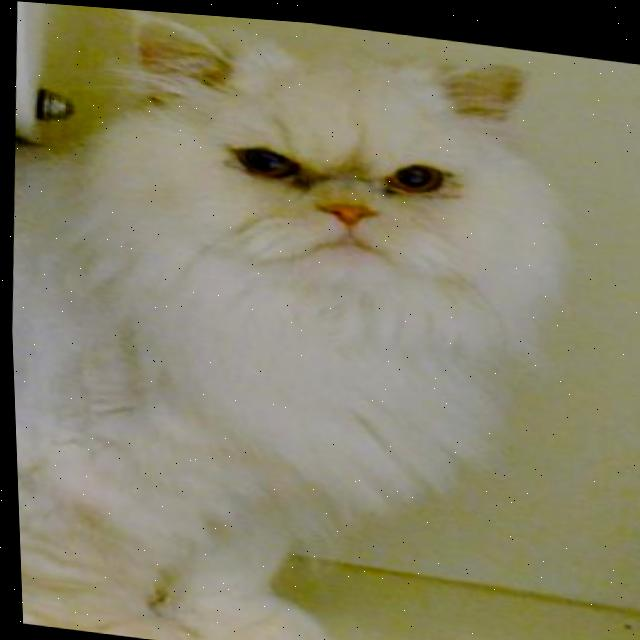Persian: (0, 0, 607, 640)
